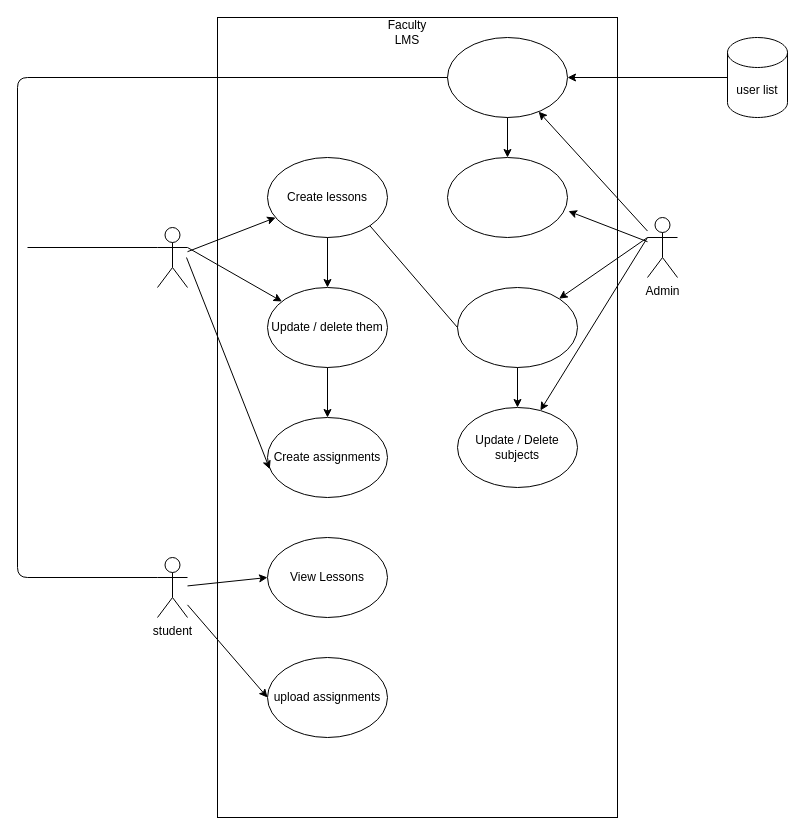
Image size: 805x835. Some labels were removed from this diagram. Each missing label, with the centre of its shape:
"Create subjects" goes at pixel 517 327.
"create user role (teacher/student)" goes at pixel 507 77.
"Teacher" goes at pixel 172 257.
"view/delete users" goes at pixel 507 197.
